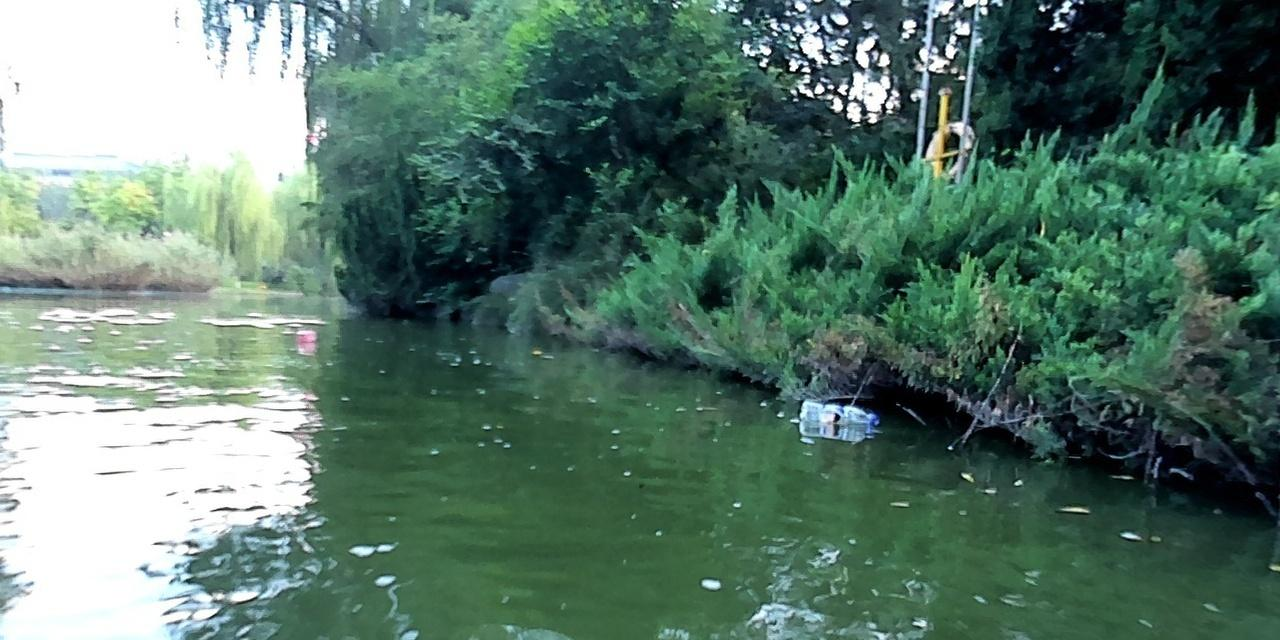bottle: (798, 395, 877, 434), (293, 327, 316, 345)
